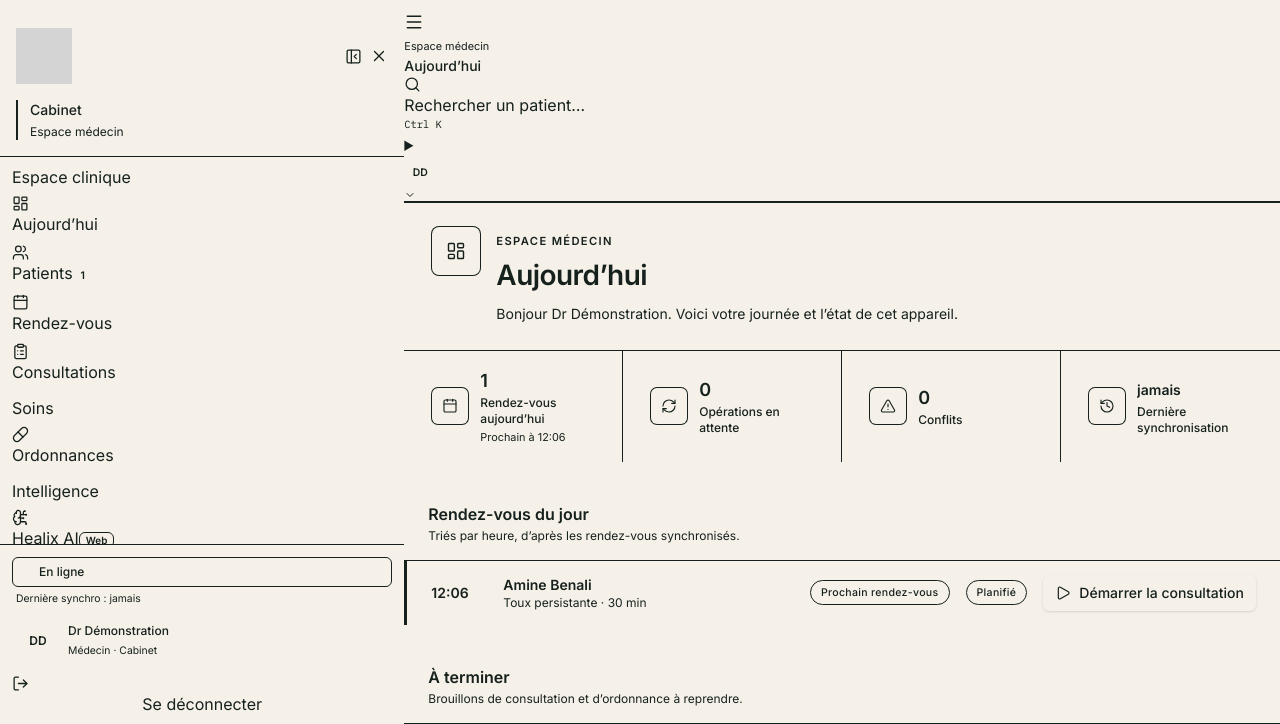
Test: App routing › opens on Aujourd'hui and lands in the editor, patient and reason filled in, from 'Démarrer la consultation'
Click the button "Démarrer la consultation". click: (1150, 593)
box: x1=1043 y1=575 x2=1256 y2=611
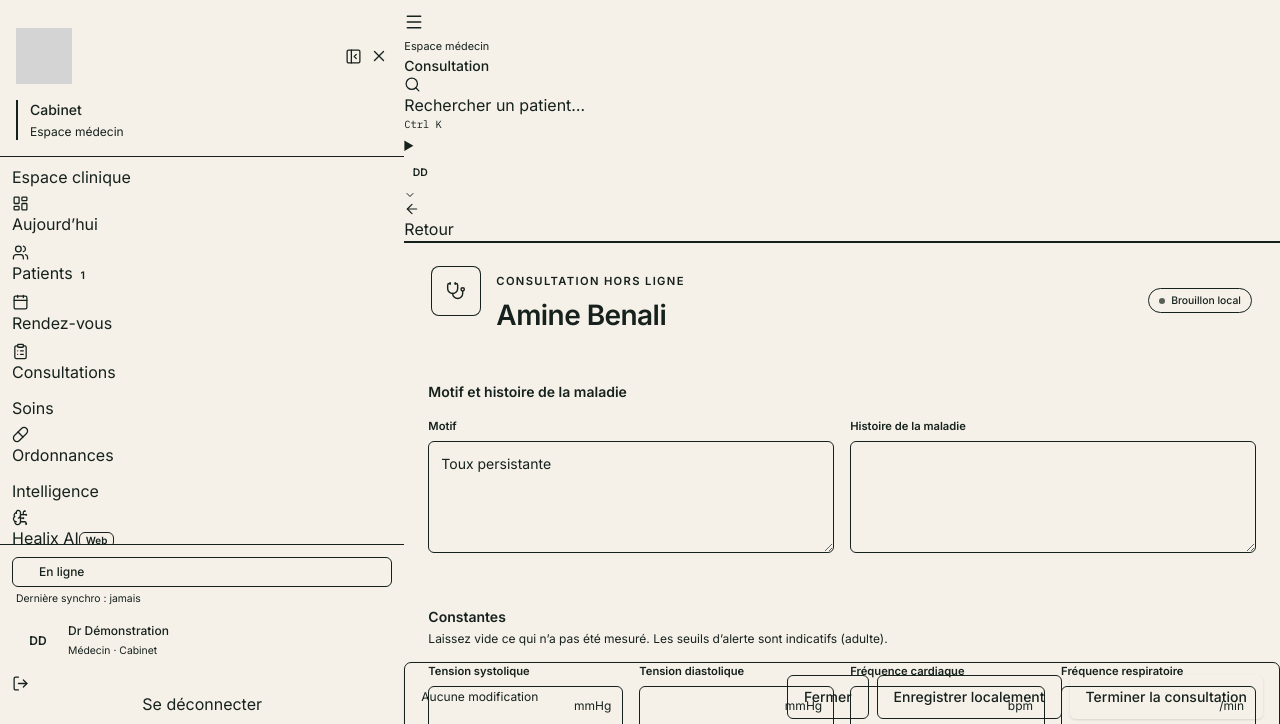
Expected: the button "Enregistrer localement" is shown, x1=876 y1=675 x2=1062 y2=719
Expected: the heading "Amine Benali" is shown, x1=496 y1=297 x2=685 y2=334
Expected: the text box labelled "Motif" holds "Toux persistante", x1=428 y1=441 x2=834 y2=553
